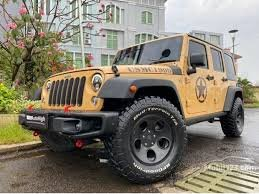mobil: (24, 31, 252, 179)
